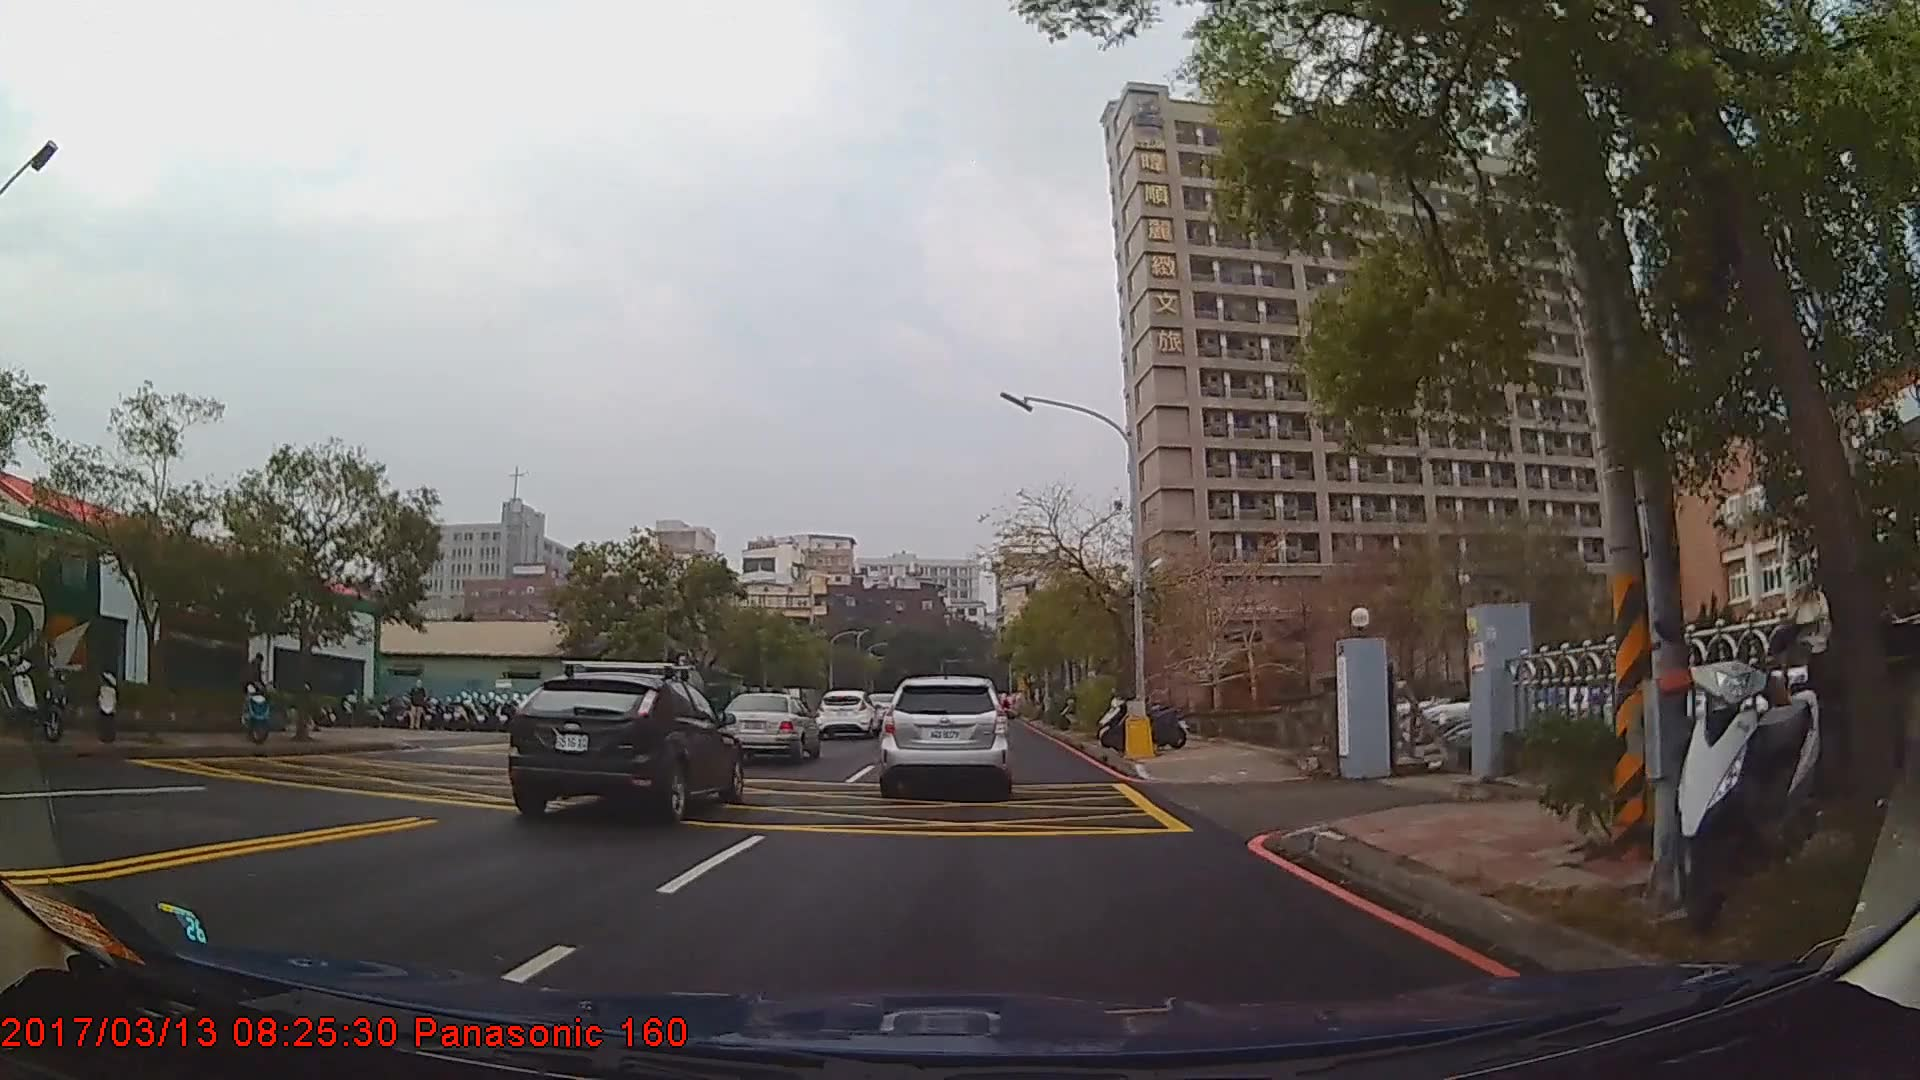pedestrian: (410, 680, 430, 732)
vehicle: (505, 669, 743, 817), (0, 502, 102, 721), (881, 673, 1008, 790), (720, 690, 820, 762), (815, 687, 879, 738)
